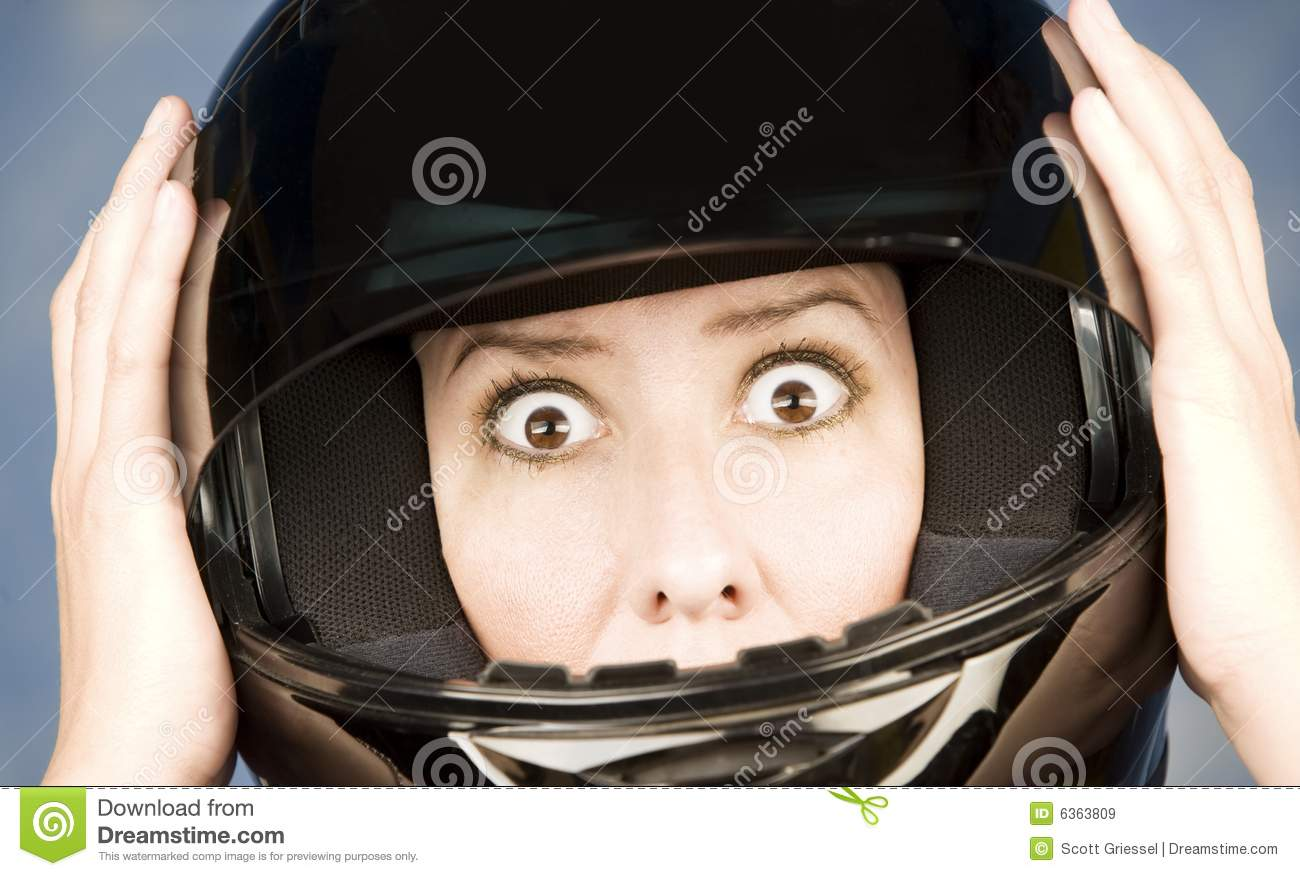helmet: (192, 14, 1179, 784)
